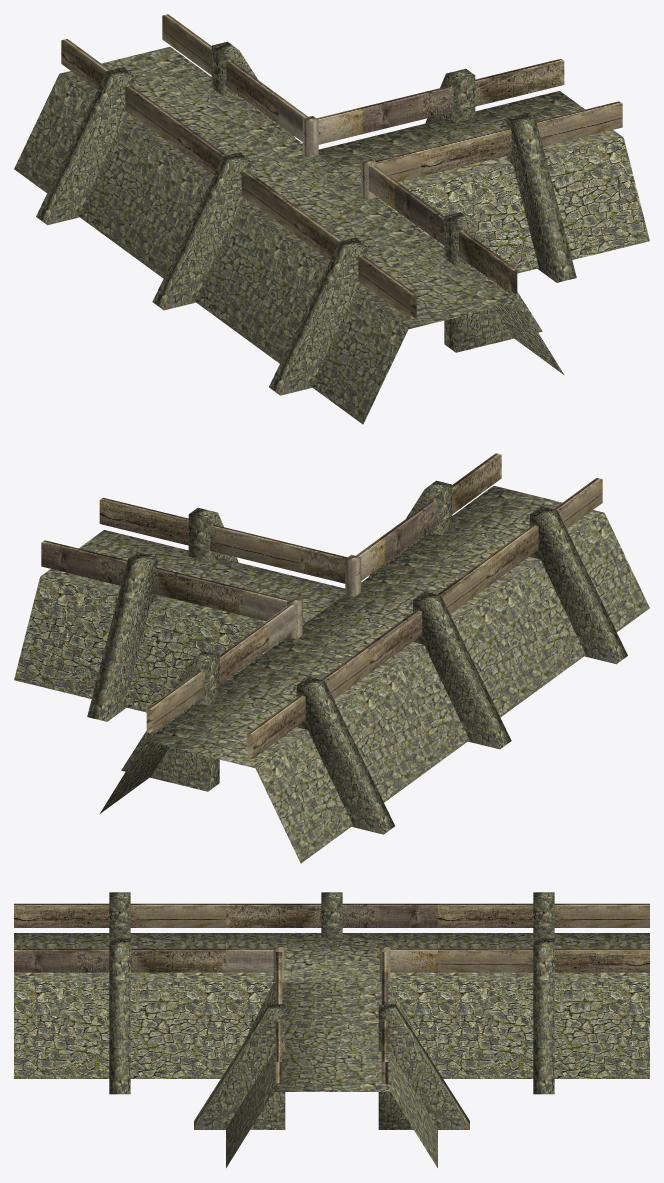
File: T-Tile.fbx
3 renders of one model, top to bottom at view 1: azimuth 30°, elevation 25°; view 2: azimuth 150°, elevation 25°; view 3: azimuth 270°, elevation 25°, orthographic. The views are drawn at different scales.
Parts seen in each view (by area): view 1: T-Tile; view 2: T-Tile; view 3: T-Tile.
Part boxes in pixels (x1,y1,x2,y2): T-Tile: (14,14,649,424); T-Tile: (14,453,649,863); T-Tile: (14,892,649,1167).
Bounding box in the file's own units: 215 × 60.81 × 300.
